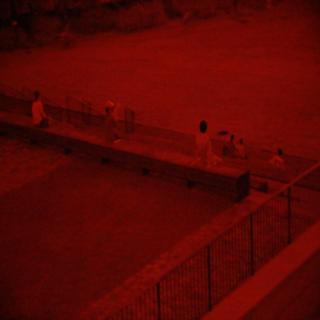person: (184, 110, 214, 177), (29, 85, 46, 132), (101, 88, 120, 126), (272, 140, 284, 167)
